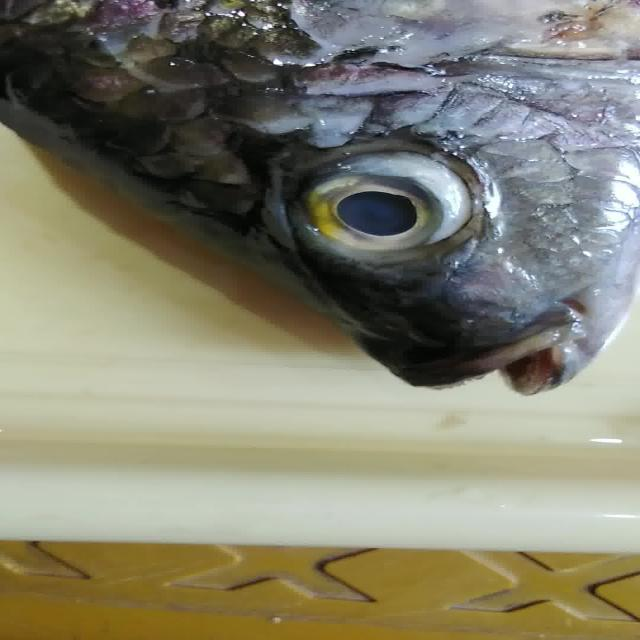Fresh: (288, 139, 494, 280)
